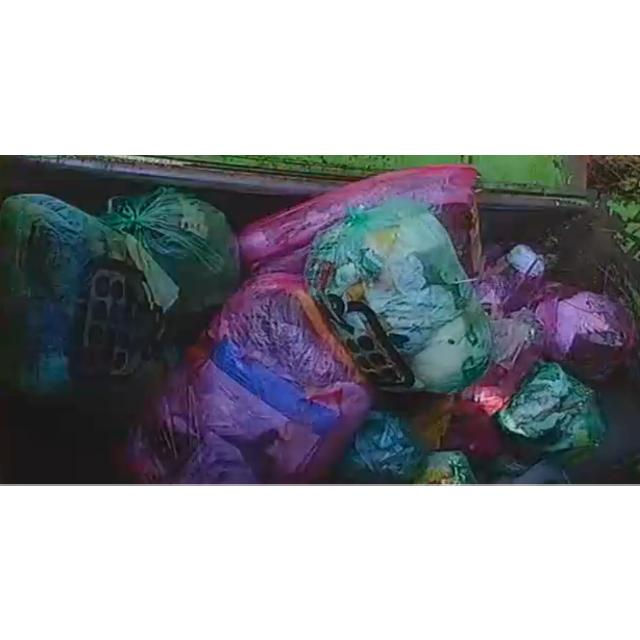general_trashbag: (305, 198, 492, 392), (0, 193, 179, 393), (100, 186, 240, 312), (498, 362, 605, 452)
other_trashbag: (128, 273, 371, 484), (239, 163, 481, 276), (535, 283, 636, 378), (476, 244, 544, 318)
